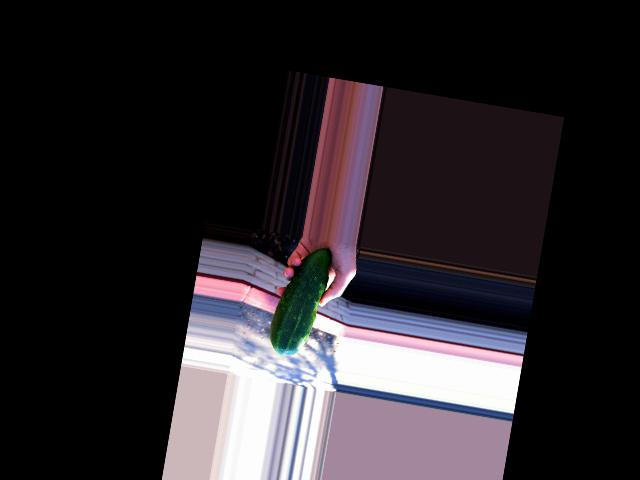cucumber: (265, 241, 332, 359)
